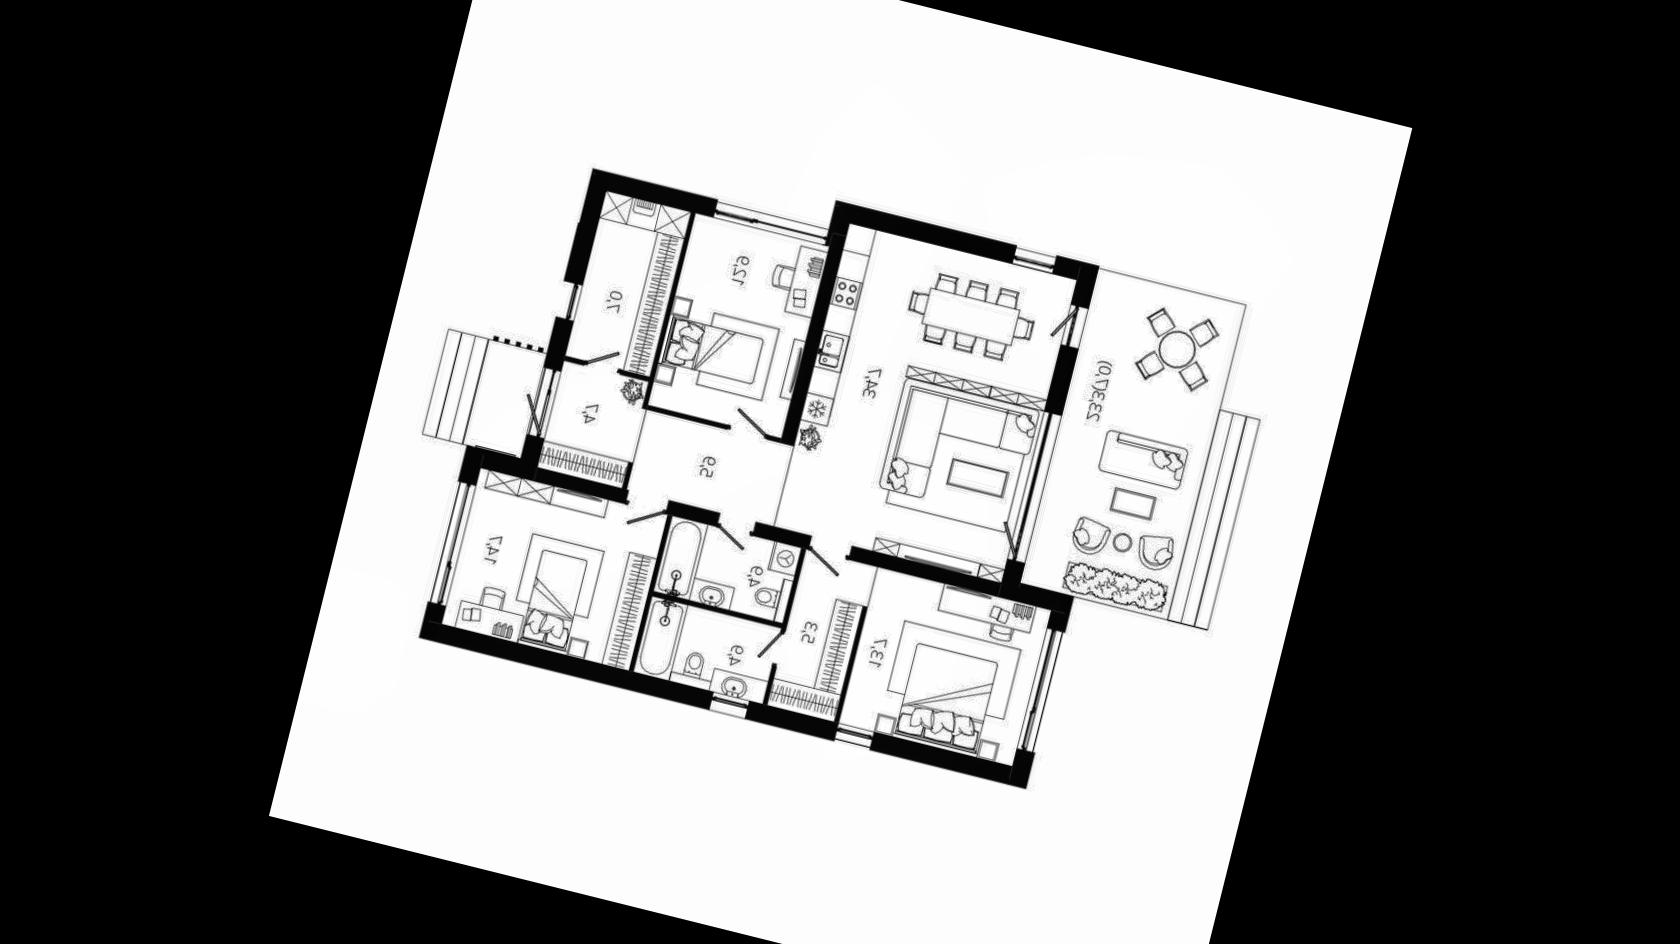door: (513, 359, 567, 440), (1044, 297, 1094, 355), (990, 511, 1040, 570), (800, 527, 853, 580), (620, 484, 672, 538), (706, 507, 759, 555), (727, 404, 773, 445), (751, 623, 788, 674), (580, 338, 624, 377)
window: (420, 475, 480, 612), (1011, 624, 1068, 757), (707, 197, 830, 249), (550, 274, 587, 329), (1006, 244, 1060, 280), (827, 719, 878, 756), (702, 688, 751, 724)
